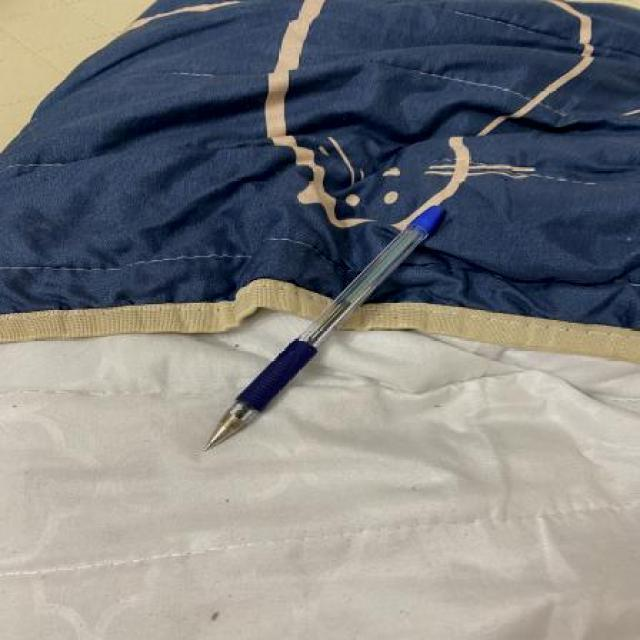pen: (203, 201, 447, 450)
